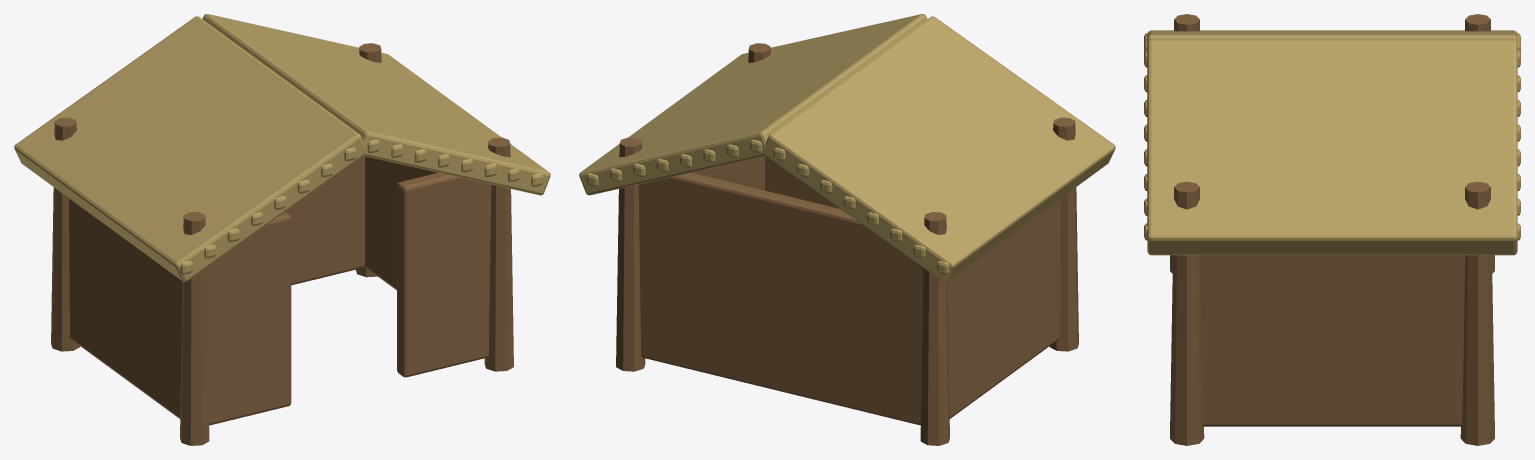
Rendered from hut.glb.
3 views of the same model, side by side, from view 1: azimuth 30°, elevation 25°; view 2: azimuth 150°, elevation 25°; view 3: azimuth 270°, elevation 25° (orthographic). The views are drawn at different scales.
Parts seen in each view (by area): view 1: Thatch roof, Thatch roof.001, Front wall.001, Side wall, Front wall, Back wall, Post, Post.002, Side wall.001, Post.001; view 2: Back wall, Thatch roof, Thatch roof.001, Side wall, Post.001, Post.003, Post, Front wall.001, Side wall.001; view 3: Thatch roof.001, Side wall.001, Post.002, Post.003, Thatch roof, Post, Post.001.
Boxes of the visible parts, left/top/right/bottom form: Thatch roof: left=14, top=16, right=364, bottom=282; Thatch roof.001: left=202, top=14, right=550, bottom=195; Front wall.001: left=397, top=172, right=491, bottom=377; Side wall: left=69, top=198, right=182, bottom=418; Front wall: left=206, top=212, right=291, bottom=425; Back wall: left=285, top=156, right=364, bottom=285; Post: left=180, top=212, right=209, bottom=445; Post.002: left=484, top=137, right=513, bottom=371; Side wall.001: left=365, top=156, right=437, bottom=290; Post.001: left=51, top=117, right=80, bottom=351; Back wall: left=638, top=172, right=923, bottom=425; Thatch roof: left=764, top=16, right=1115, bottom=282; Thatch roof.001: left=579, top=14, right=927, bottom=195; Side wall: left=947, top=198, right=1060, bottom=418; Post.001: left=920, top=212, right=949, bottom=445; Post.003: left=616, top=137, right=645, bottom=371; Post: left=1049, top=117, right=1078, bottom=351; Front wall.001: left=765, top=156, right=840, bottom=208; Side wall.001: left=692, top=156, right=764, bottom=190; Thatch roof.001: left=1147, top=39, right=1517, bottom=255; Side wall.001: left=1199, top=255, right=1465, bottom=426; Post.002: left=1170, top=181, right=1204, bottom=445; Post.003: left=1460, top=181, right=1494, bottom=445; Thatch roof: left=1147, top=30, right=1517, bottom=43; Post: left=1170, top=14, right=1199, bottom=273; Post.001: left=1465, top=14, right=1494, bottom=273.
Size of the model in its own units: 3.69 by 2.65 by 2.85.
